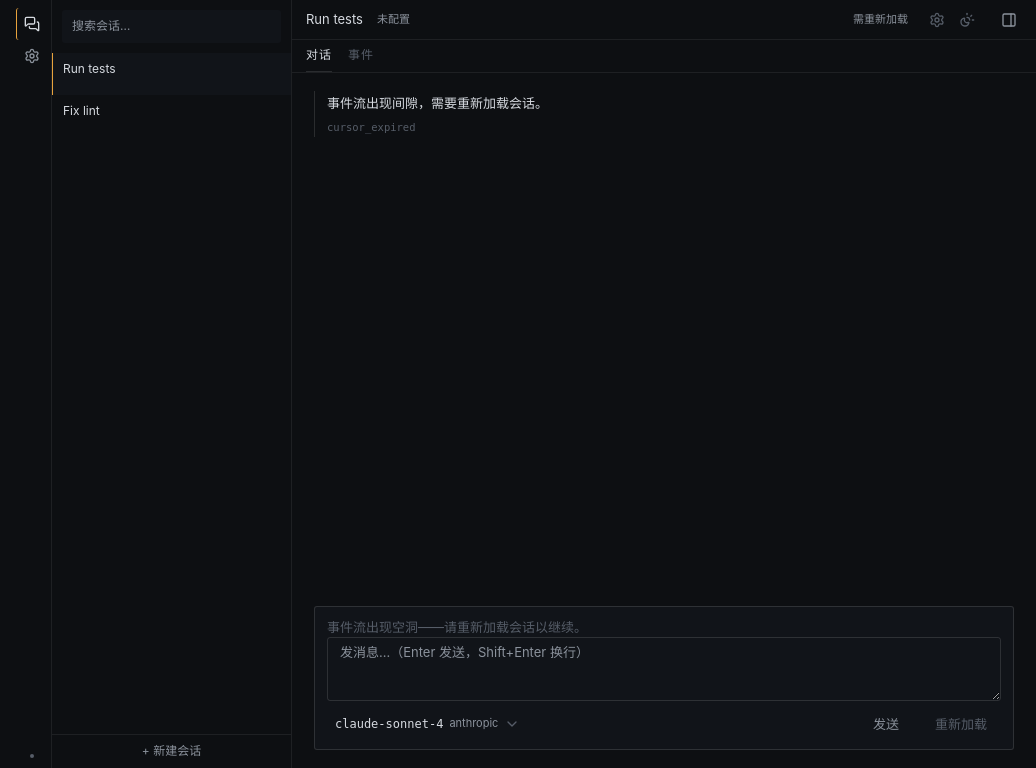
Scenario: AppFrame timeline and composer › treats fixture cursor_expired as replay_required with Reload and no extra follow
Expected: the button "发送" is disabled, [859,709,913,739]
Click the button "重新加载": {"x": 961, "y": 724} [921,709,1001,739]
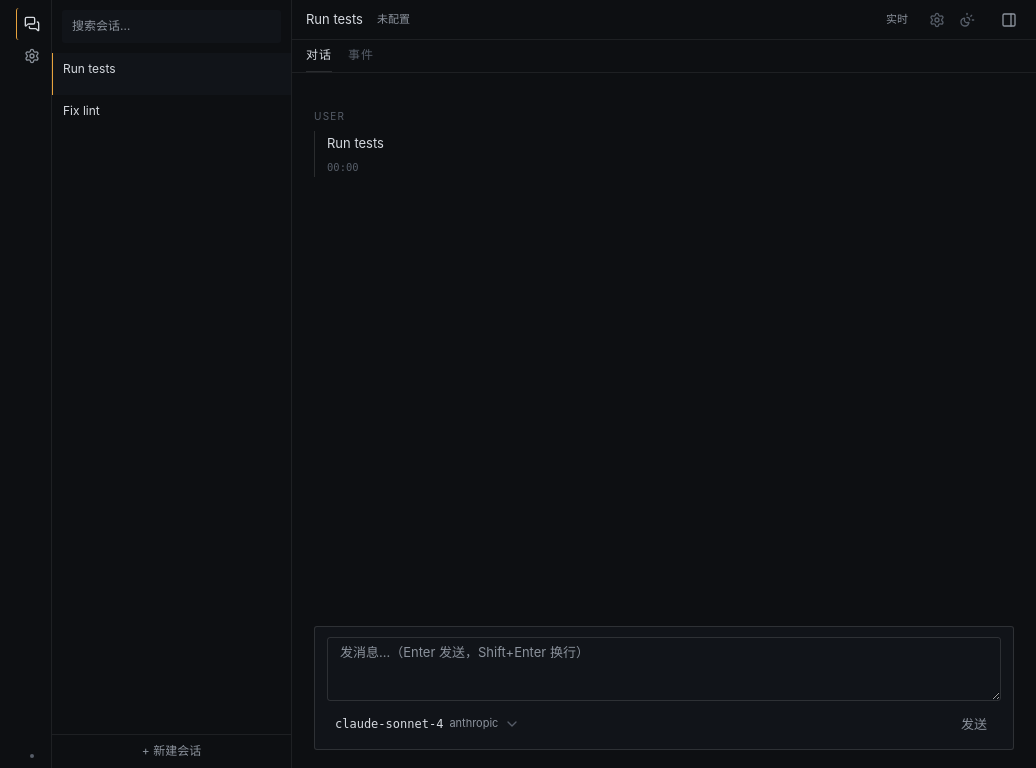
In the text box named "消息输入": {"x": 664, "y": 669} [327,637,1001,701], type "after expired cursor"
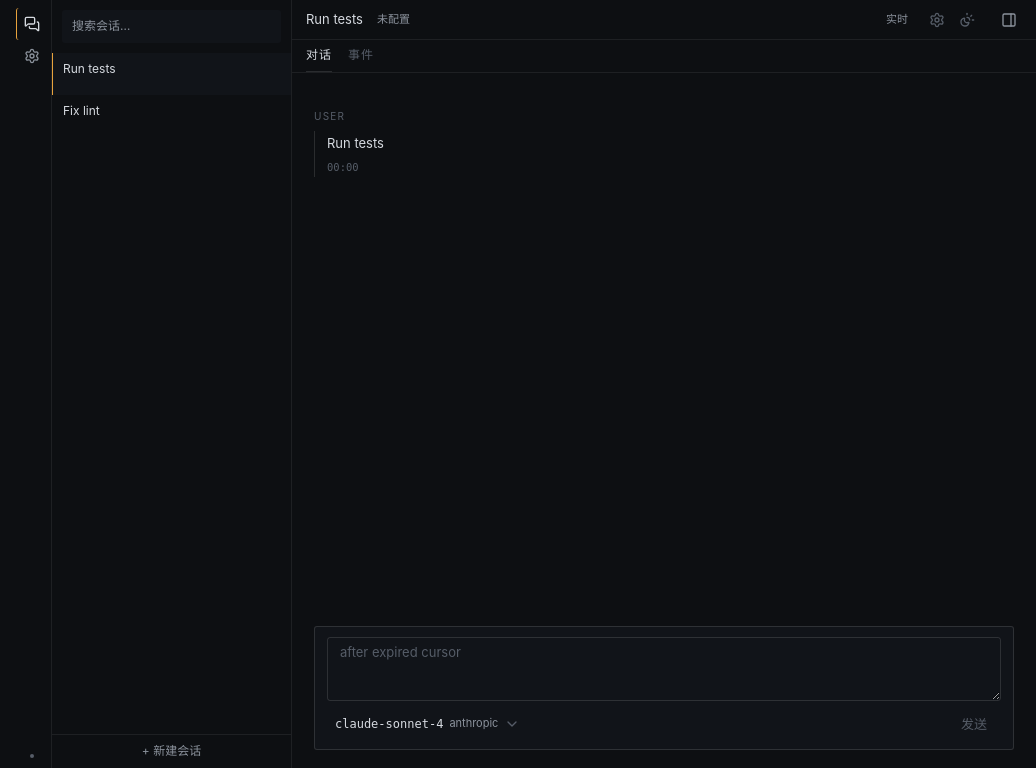
Result: the button "发送" is enabled at [947,709,1001,739]
